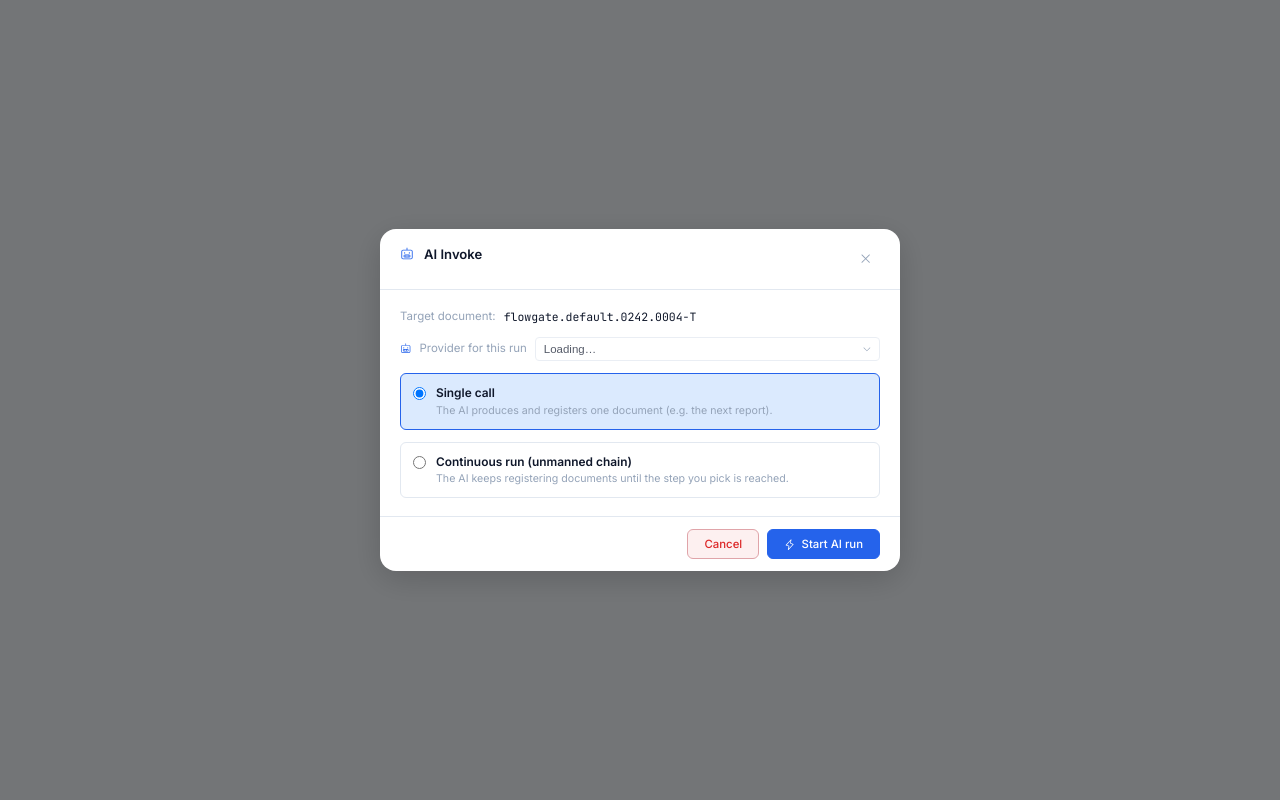
Test: AiInvokeDialog continuous target › ignores a legacy sequence-shaped body: only `items` is a sequence
The width and height of the screenshot is (1280, 800).
Click the 2nd radio button: (420, 462) [413, 456, 426, 469]
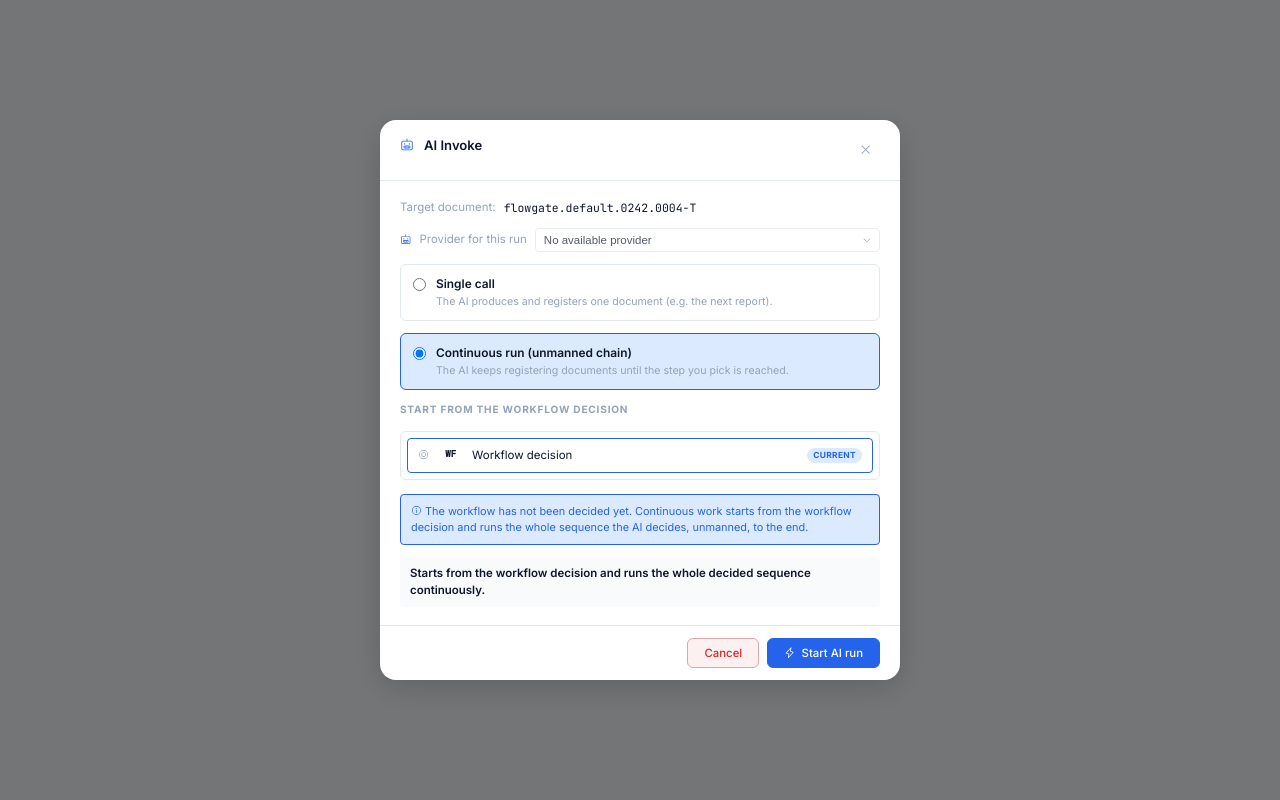
Now the text "Start from the workflow decision" is shown, box [400, 403, 628, 415]
